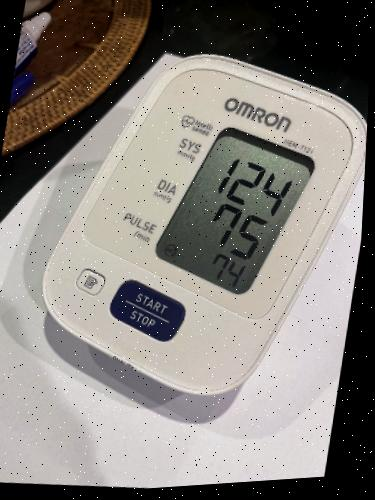bpm: (145, 104, 330, 310)
